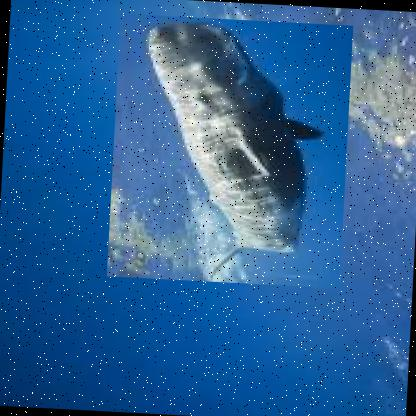sperm_whale: (106, 13, 352, 288)
